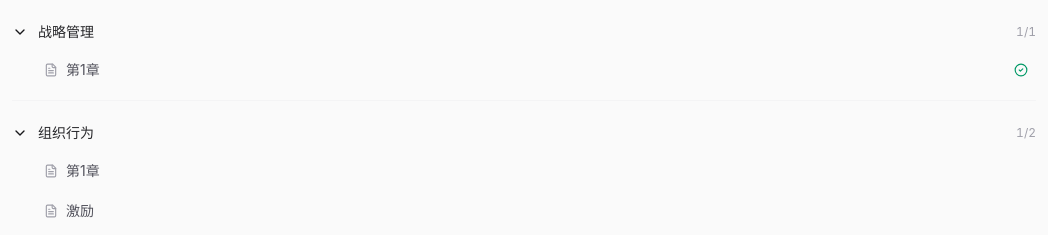
Test: SourceChapterTree › collapses one source without hiding chapters in another source
Step 1. Click the button with aria-label "折叠《战略管理》" → {"x": 66, "y": 32}, box 12,12 -> 1036,52
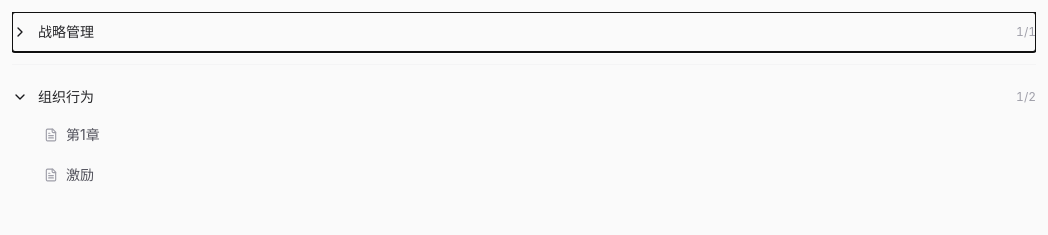
Expected: the text "第1章" is shown, 66,125 -> 100,145
Expected: the button with aria-label "展开《战略管理》" is collapsed, 12,12 -> 1036,52
